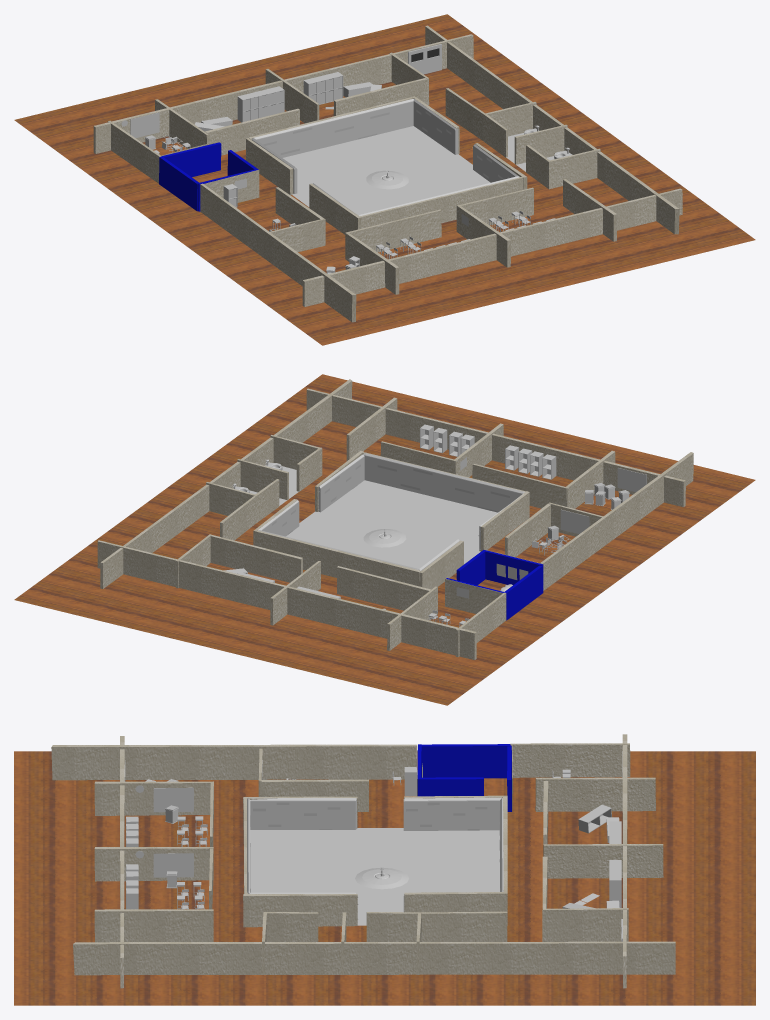
Rendered from map3.obj.
3 views of the same model, one above another, from view 1: azimuth 30°, elevation 25°; view 2: azimuth 150°, elevation 25°; view 3: azimuth 270°, elevation 25° (orthographic). The views are drawn at different scales.
Parts seen in each view (by area): view 1: floor, grass, Cube.001, Cube.032, Cube.004, Cube.003, HEDGE.005, Cube.053, Cube.038, Cube.040, Cube.028, Cube.039 (+24 smaller); view 2: floor, grass, Cube.004, Cube.001, Cube.032, Cube.003, HEDGE.002, Cube.018, Cube.028, Cube.040, Cube.038, Cube.020 (+26 smaller); view 3: floor, Cube.032, grass, Cube.003, Cube.025, Cube.014, Cube.007, Cube.008, HEDGE.007, HEDGE.001, Cube.021, Cube.023 (+16 smaller).
Part boxes in pixels (left/top/right/bottom): floor: left=14, top=14, right=755, bottom=345; grass: left=283, top=126, right=490, bottom=215; Cube.001: left=302, top=188, right=682, bottom=306; Cube.032: left=425, top=25, right=679, bottom=234; Cube.004: left=93, top=34, right=473, bottom=153; Cube.003: left=200, top=183, right=356, bottom=322; HEDGE.005: left=252, top=99, right=413, bottom=157; Cube.053: left=360, top=176, right=523, bottom=228; Cube.038: left=348, top=209, right=441, bottom=252; Cube.040: left=205, top=108, right=299, bottom=155; Cube.028: left=333, top=78, right=429, bottom=116; Cube.039: left=460, top=187, right=533, bottom=225; floor: left=14, top=374, right=755, bottom=705; grass: left=286, top=480, right=497, bottom=568; Cube.004: left=97, top=540, right=476, bottom=659; Cube.001: left=306, top=388, right=685, bottom=506; Cube.032: left=100, top=379, right=352, bottom=588; Cube.003: left=540, top=452, right=693, bottom=590; HEDGE.002: left=363, top=453, right=525, bottom=512; Cube.018: left=255, top=530, right=420, bottom=586; Cube.028: left=210, top=535, right=302, bottom=582; Cube.040: left=337, top=566, right=431, bottom=610; Cube.038: left=472, top=464, right=566, bottom=508; Cube.020: left=481, top=491, right=529, bottom=551; floor: left=14, top=751, right=755, bottom=1005; Cube.032: left=73, top=941, right=675, bottom=975; grass: left=250, top=828, right=499, bottom=925; Cube.003: left=51, top=744, right=417, bottom=780; Cube.025: left=510, top=743, right=630, bottom=777; Cube.014: left=94, top=909, right=213, bottom=942; Cube.007: left=535, top=777, right=655, bottom=811; Cube.008: left=543, top=844, right=663, bottom=878; HEDGE.007: left=250, top=798, right=358, bottom=829; HEDGE.001: left=403, top=797, right=501, bottom=830; Cube.021: left=243, top=894, right=357, bottom=927; Cube.023: left=421, top=744, right=510, bottom=778.
Bounding box in the file's own units: 97.19 × 7.96 × 120.
